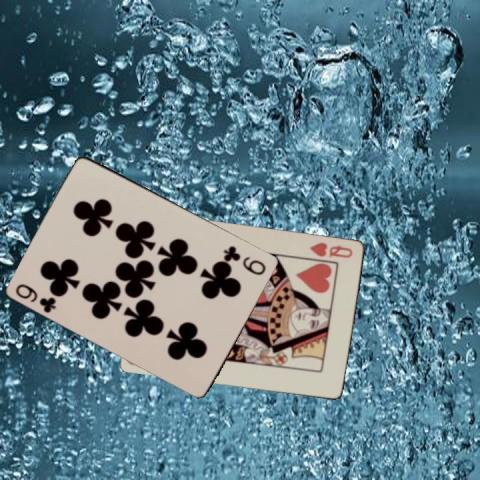9c: (221, 242, 268, 276), (13, 281, 58, 314)
Qh: (306, 240, 354, 260)
